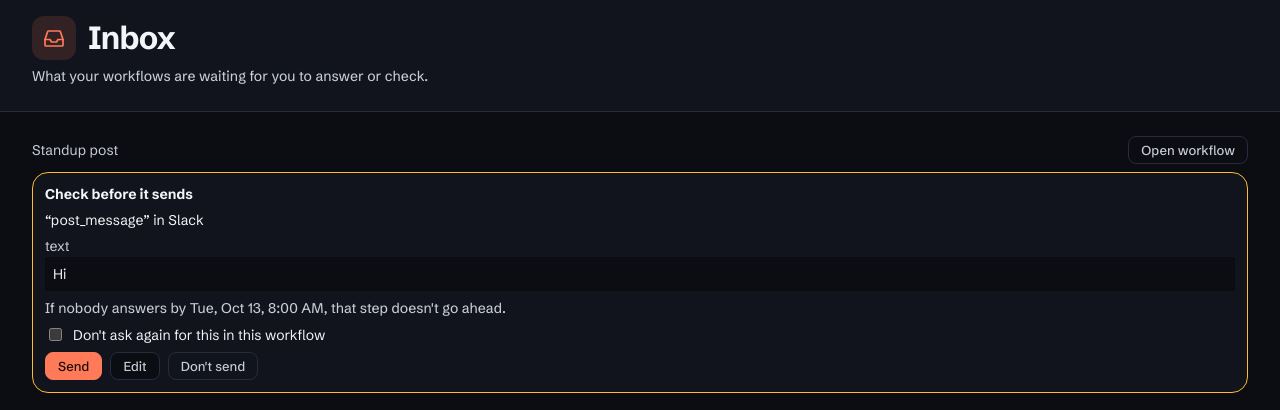
Test: InboxPage › removes an item once it is answered
Click the button "Send" at (74, 366), box [45, 352, 102, 380]
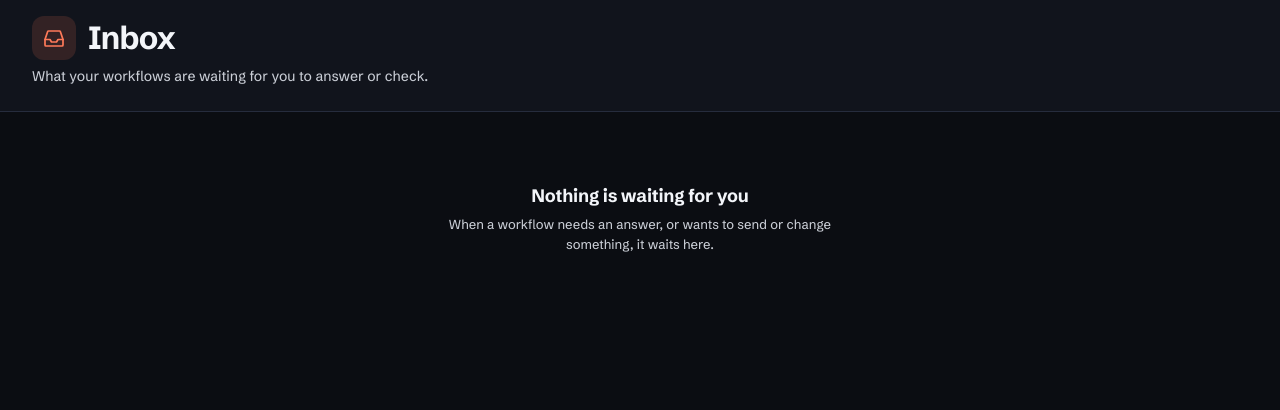
Expected: the text "Nothing is waiting for you" is shown, [531, 184, 749, 207]
